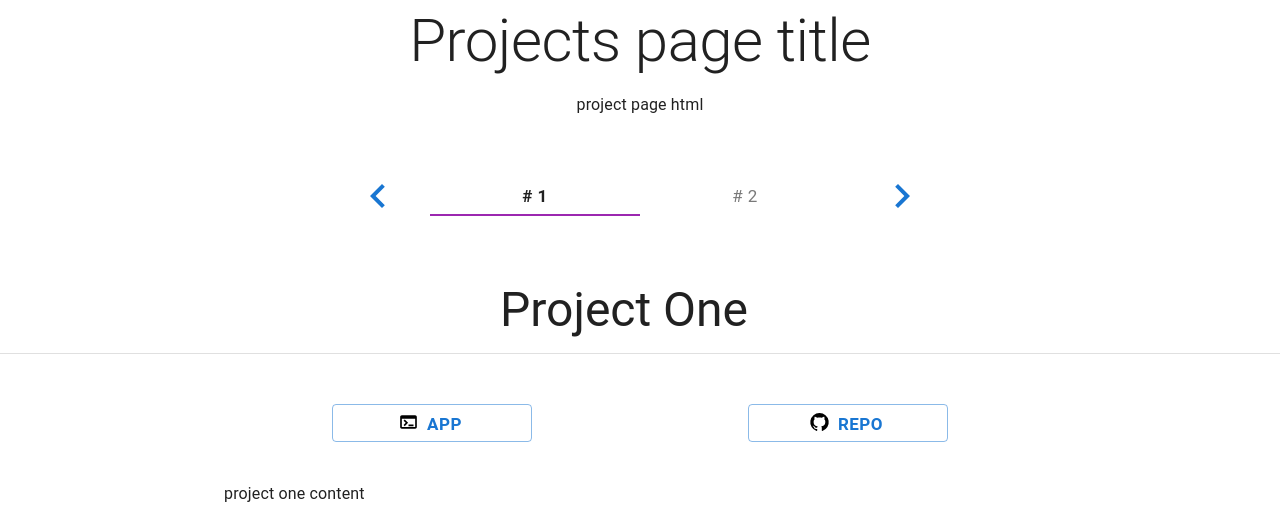
projects page › projects are rendered properly
Check: the heading "Project One" is shown, box [500,282,748,338]
Check: the text "project one content" is shown, box [224,484,365,503]
Click the tab "# 2" at (745, 196), box [640,176,850,216]
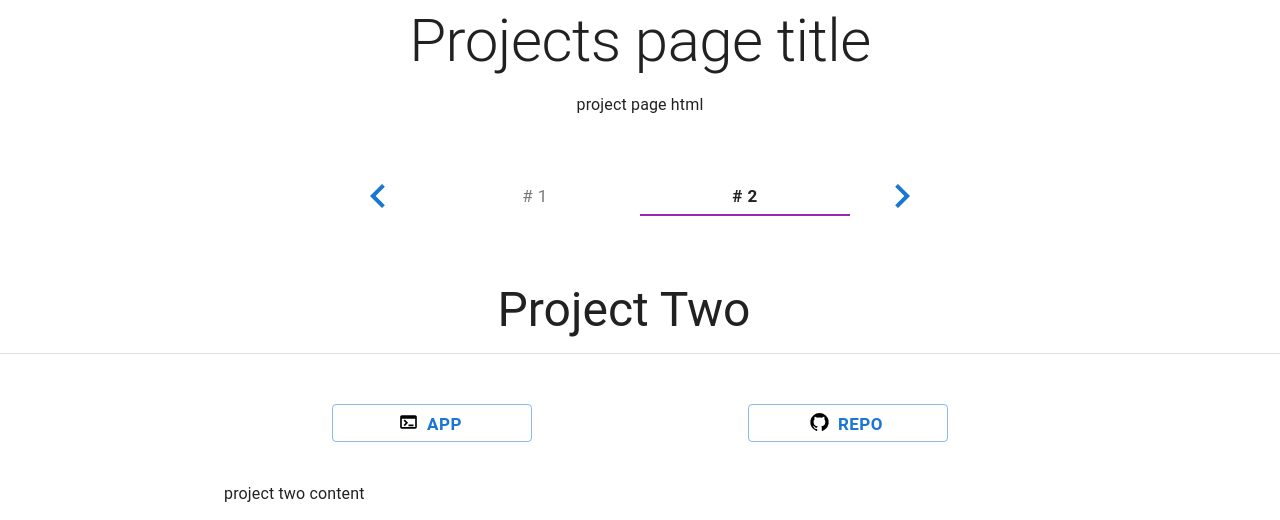
Check: the heading "Project Two" is shown, box [498,282,750,338]
Check: the text "project two content" is shown, box [224,484,365,503]
